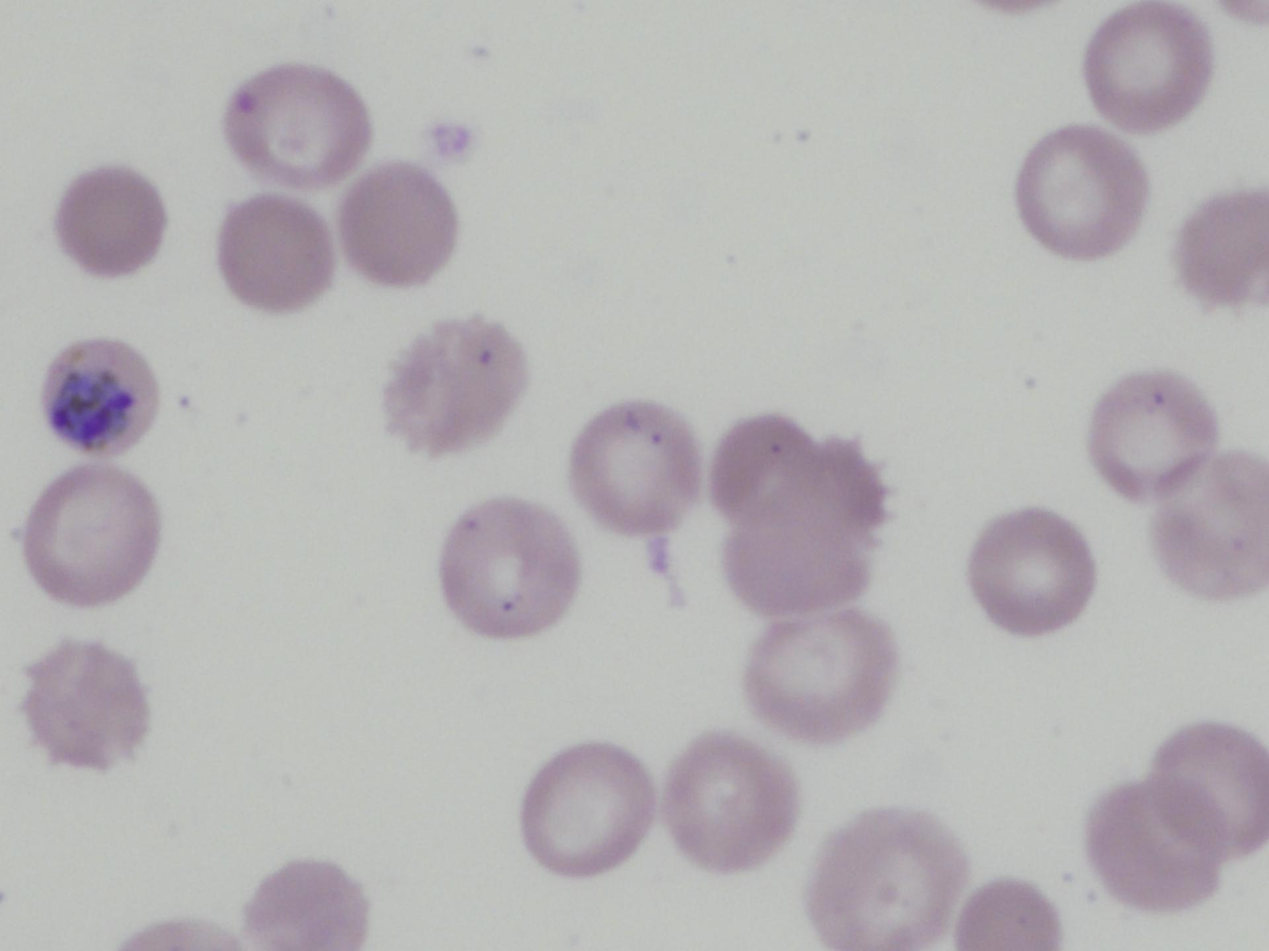Infected: (37, 340, 167, 464)
Uninfected: (718, 472, 864, 622), (388, 311, 530, 461), (811, 811, 959, 951), (24, 461, 160, 612), (665, 728, 796, 878), (445, 499, 580, 643), (1152, 446, 1269, 611), (522, 737, 659, 877), (1080, 781, 1225, 910), (1084, 366, 1221, 502), (967, 507, 1100, 643), (749, 613, 889, 741), (1085, 0, 1213, 139), (1018, 124, 1153, 255), (227, 67, 370, 187), (1143, 723, 1269, 859), (22, 635, 148, 766), (573, 397, 696, 530), (339, 159, 454, 293), (216, 197, 332, 320), (1176, 179, 1269, 324), (238, 860, 379, 951), (55, 164, 167, 277), (709, 410, 815, 520), (945, 877, 1058, 951), (817, 433, 881, 542)
